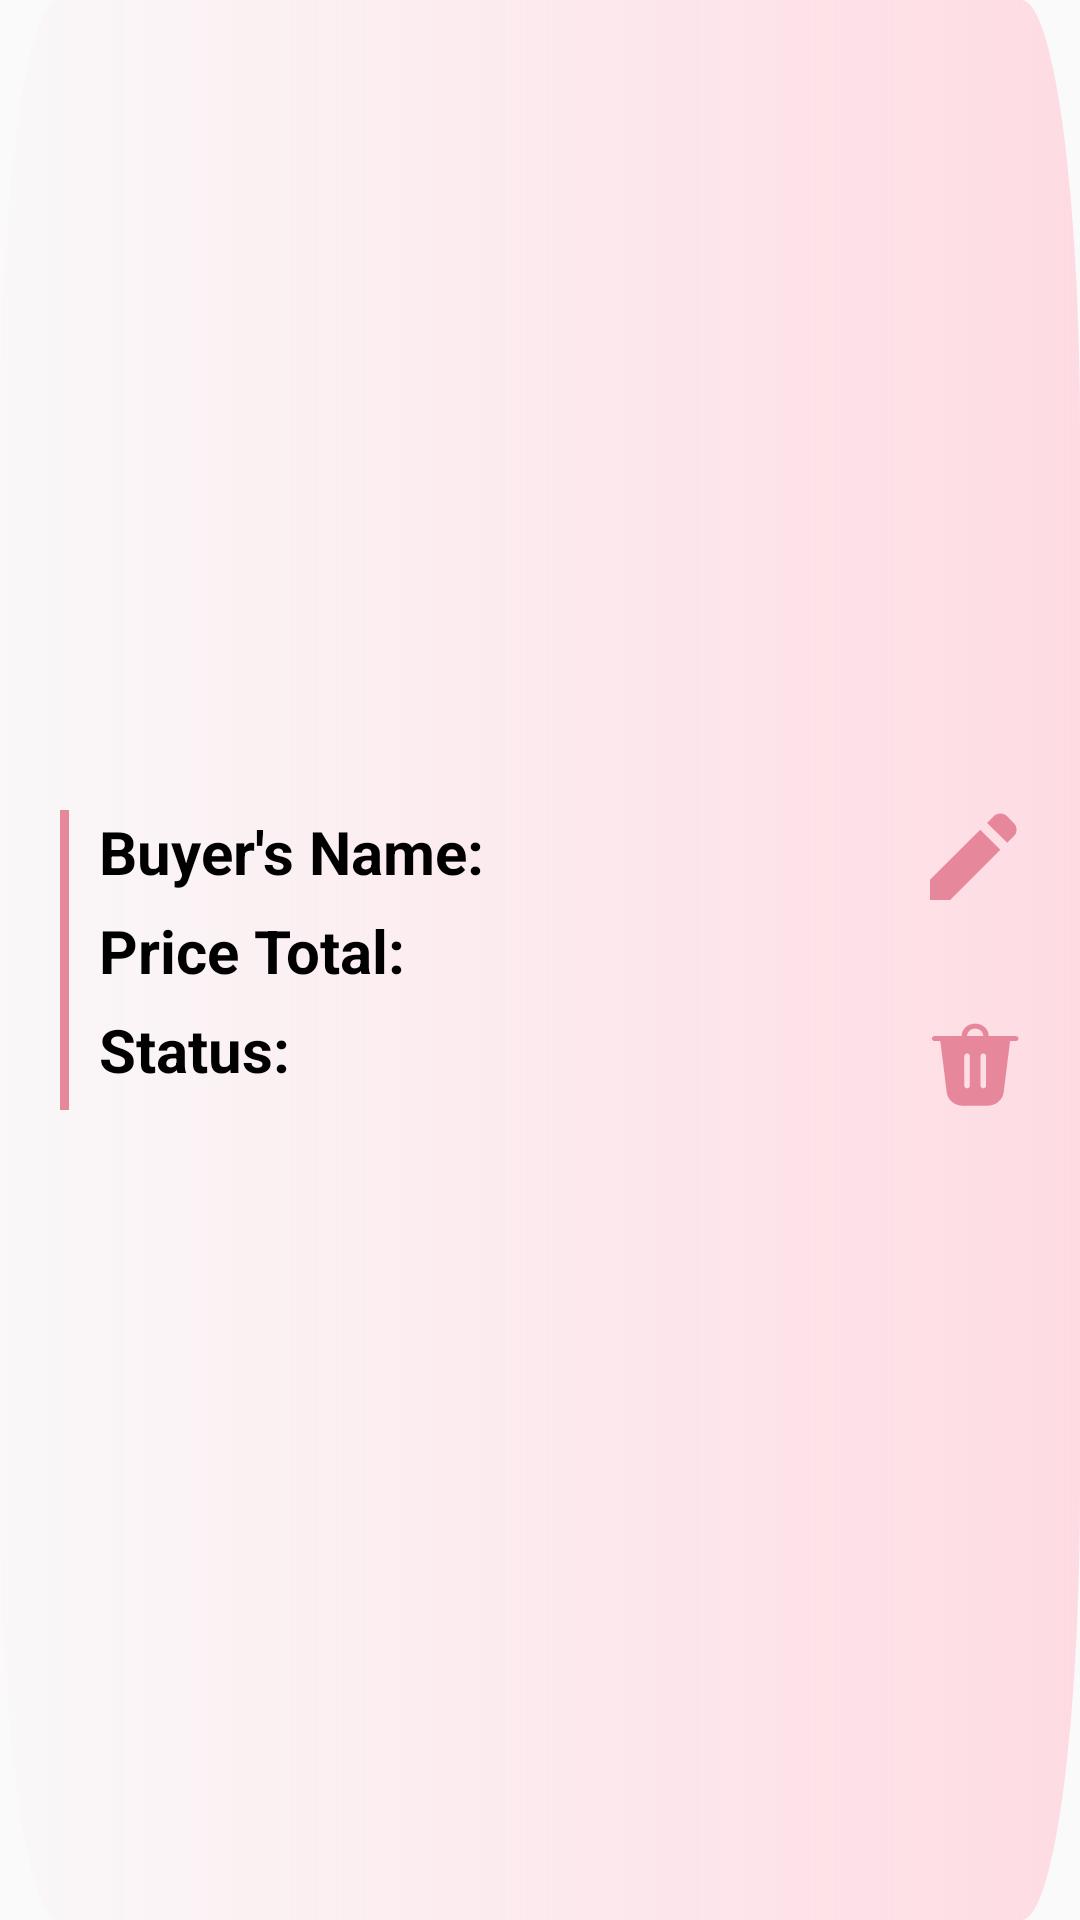

Screen size 1080 × 1920. Icon name, then its center in pixels as (x=x, y=y):
delete: (x=975, y=1064)
pen: (x=973, y=856)
